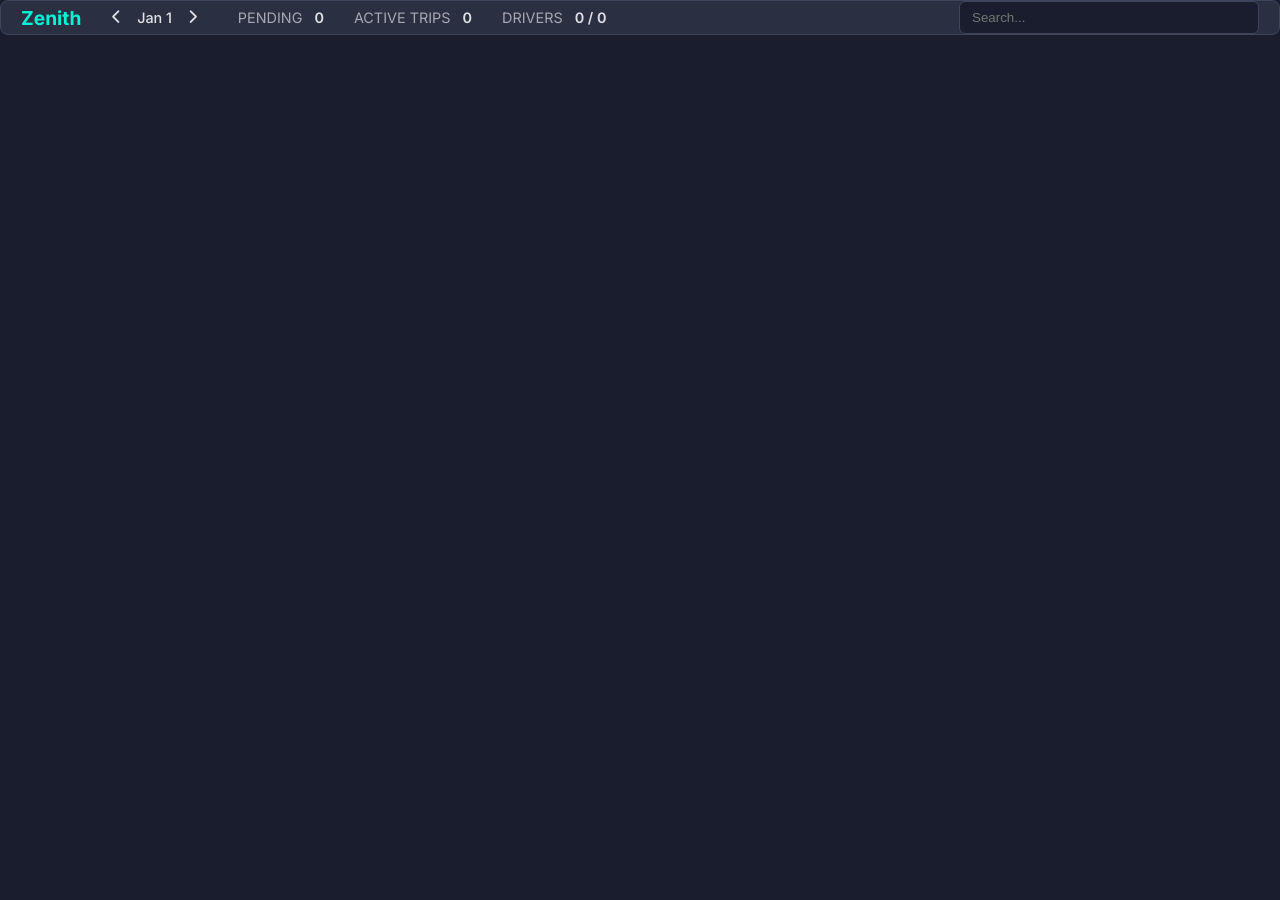
Test case: clicking current date opens date picker
Click the text "Jan 1": (155, 18) left=137, top=9, right=172, bottom=26
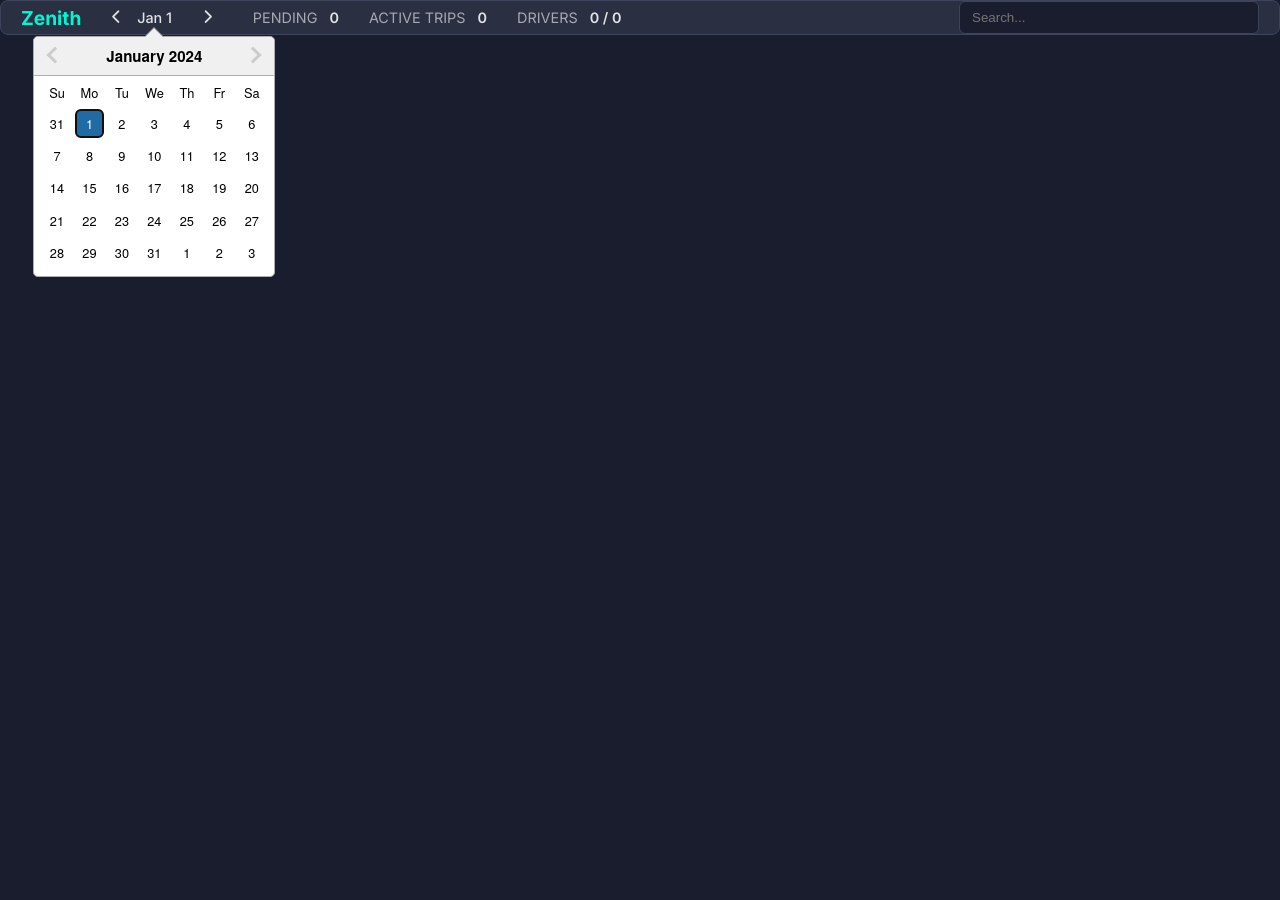
Result: the dialog with class "react-datepicker" is shown at left=33, top=36, right=275, bottom=277
